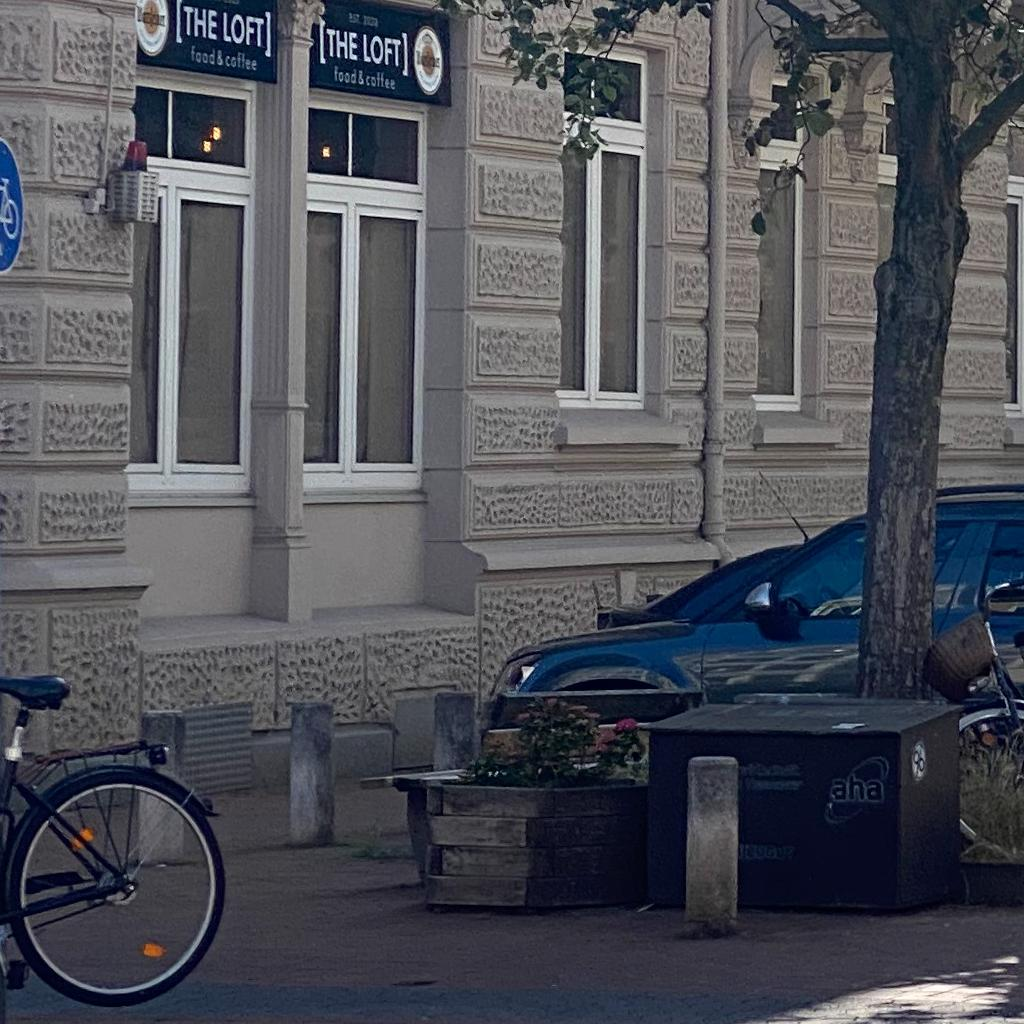tree: (434, 1, 1023, 701)
